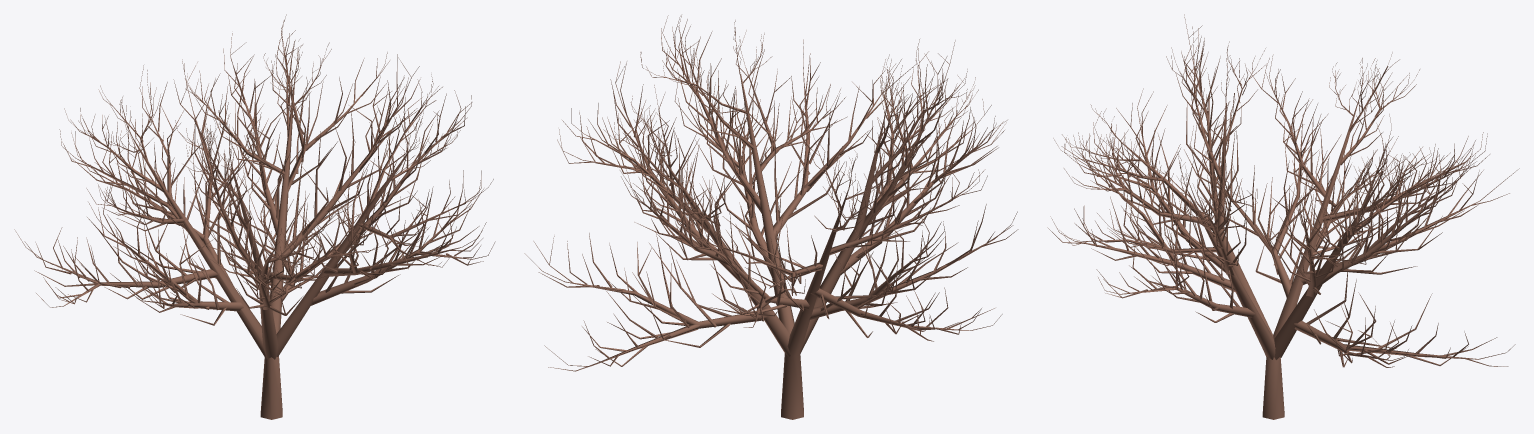
Rendered from cerisier_hiver.glb.
The picture shows the model from 3 angles, left to right: view 1: azimuth 30°, elevation 25°; view 2: azimuth 150°, elevation 25°; view 3: azimuth 270°, elevation 25°; orthographic projection. The views are drawn at different scales.
Parts seen in each view (by area): view 1: Cerisier_Tronc; view 2: Cerisier_Tronc; view 3: Cerisier_Tronc.
Part boxes in pixels (x1,y1,x2,y2): Cerisier_Tronc: [14, 14, 495, 419]; Cerisier_Tronc: [524, 15, 1018, 419]; Cerisier_Tronc: [1047, 14, 1519, 419].
Bounding box in the file's own units: 5.63 × 4.63 × 5.71.
